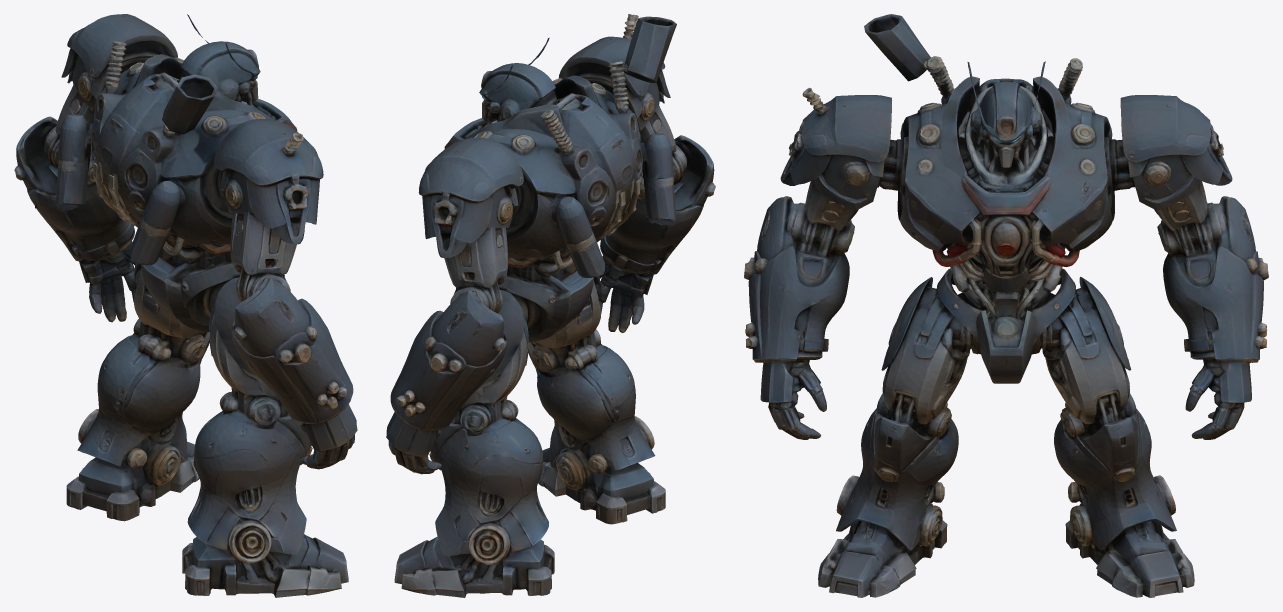
3 views of the same model, side by side, from view 1: azimuth 30°, elevation 25°; view 2: azimuth 150°, elevation 25°; view 3: azimuth 270°, elevation 25° (orthographic). The views are drawn at different scales.
Visible parts, largest first — view 1: tripo_node_a85b4d8d; view 2: tripo_node_a85b4d8d; view 3: tripo_node_a85b4d8d.
Part boxes in pixels (bbox=[...]): tripo_node_a85b4d8d: bbox=[14, 14, 357, 597]; tripo_node_a85b4d8d: bbox=[386, 14, 715, 597]; tripo_node_a85b4d8d: bbox=[744, 14, 1268, 597].
Bounding box in the file's own units: 0.3964 × 0.9956 × 0.9237.
Materials: 1 (1 with a texture image).
